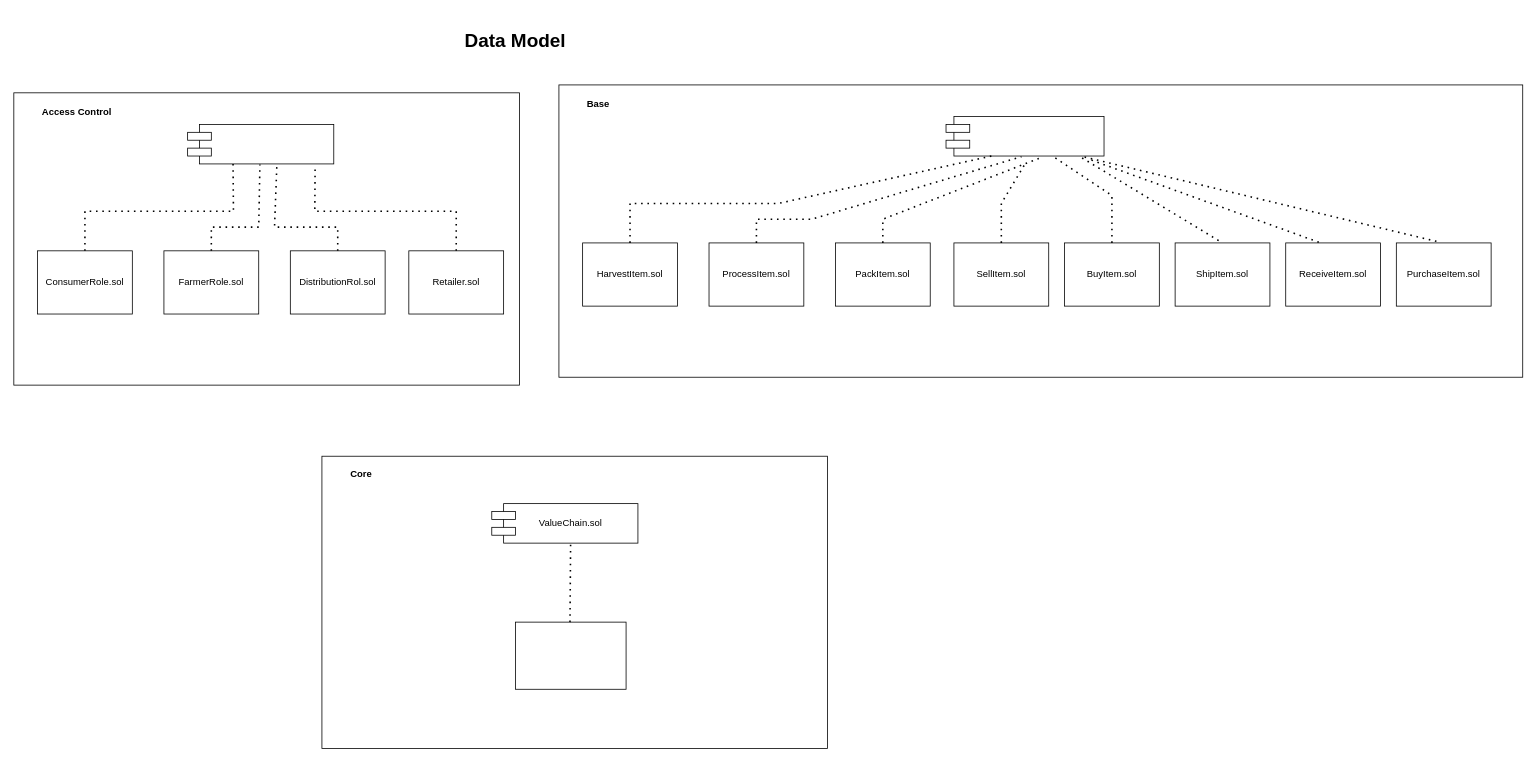
Image size: 1537x762. Some labels were removed from this diagram. Here are the shapes that lost their labels. From the top down, the centre of each, then its label:
At pixel 266 144: "Role.sol".
At pixel 1028 136: "SupplyChain.sol".
At pixel 570 655: "Ownerable.sol".
